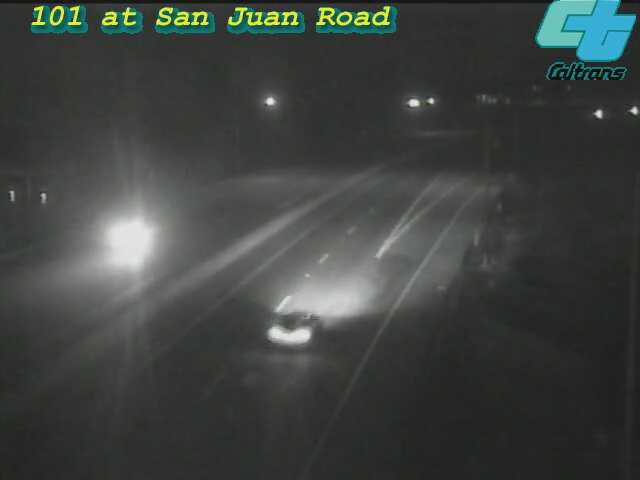vehicle: (237, 275, 347, 385), (86, 198, 166, 278), (573, 89, 623, 139), (607, 86, 640, 136)
